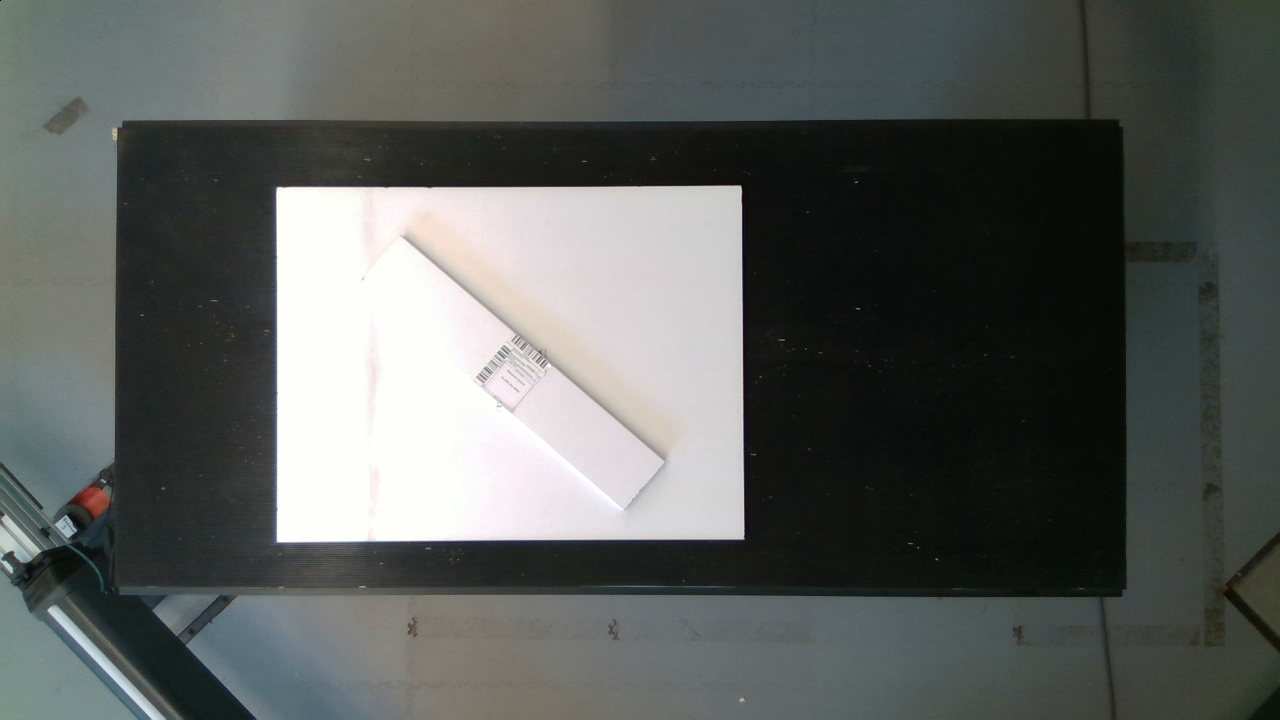barcode: (463, 318, 559, 419)
part1: (355, 226, 673, 517)
part2: (261, 170, 757, 551)
